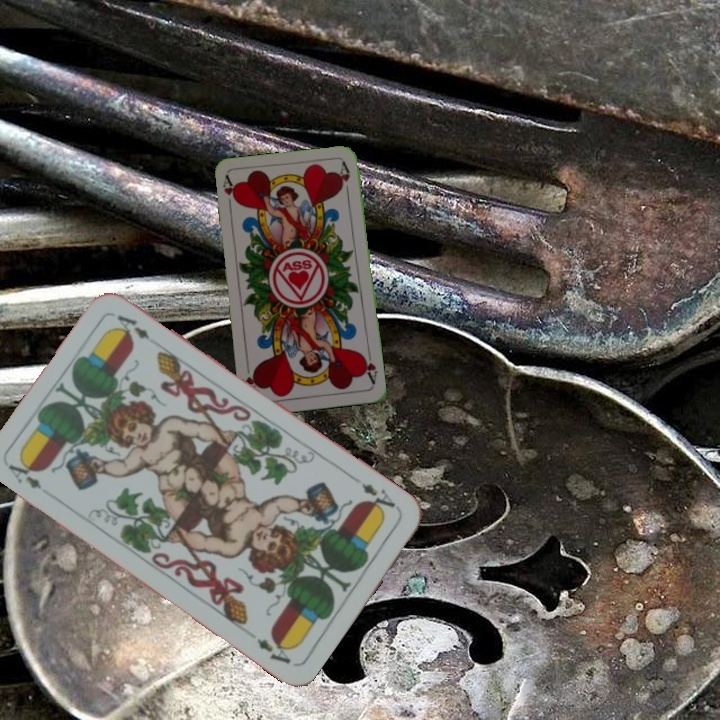EA: (357, 479, 398, 517), (4, 455, 44, 492)
HA: (358, 347, 380, 387), (219, 173, 239, 213)
